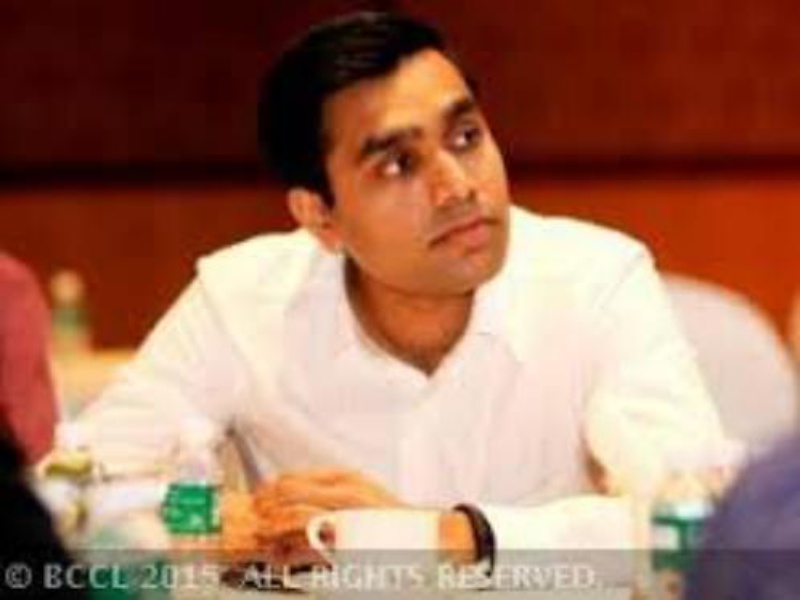TsisyArotava: (245, 20, 546, 299)
